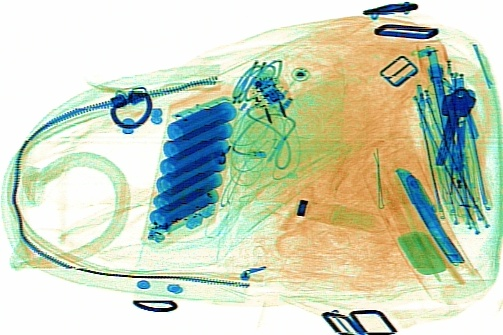powerbank: (140, 80, 241, 248)
